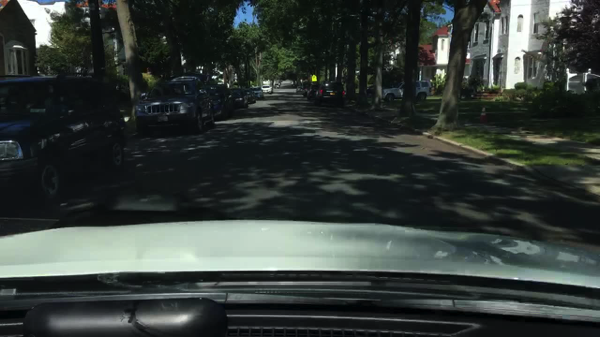car: (0, 75, 129, 204), (134, 74, 215, 135), (381, 80, 432, 102), (209, 83, 235, 121), (313, 81, 346, 107), (365, 83, 392, 99), (231, 88, 249, 108), (306, 84, 320, 100), (243, 88, 256, 104), (250, 86, 264, 99), (262, 85, 274, 94), (301, 86, 308, 96), (296, 86, 302, 93), (274, 83, 280, 88), (300, 87, 304, 94), (276, 82, 281, 87), (277, 81, 282, 85)
traffic sign: (310, 74, 317, 82)
